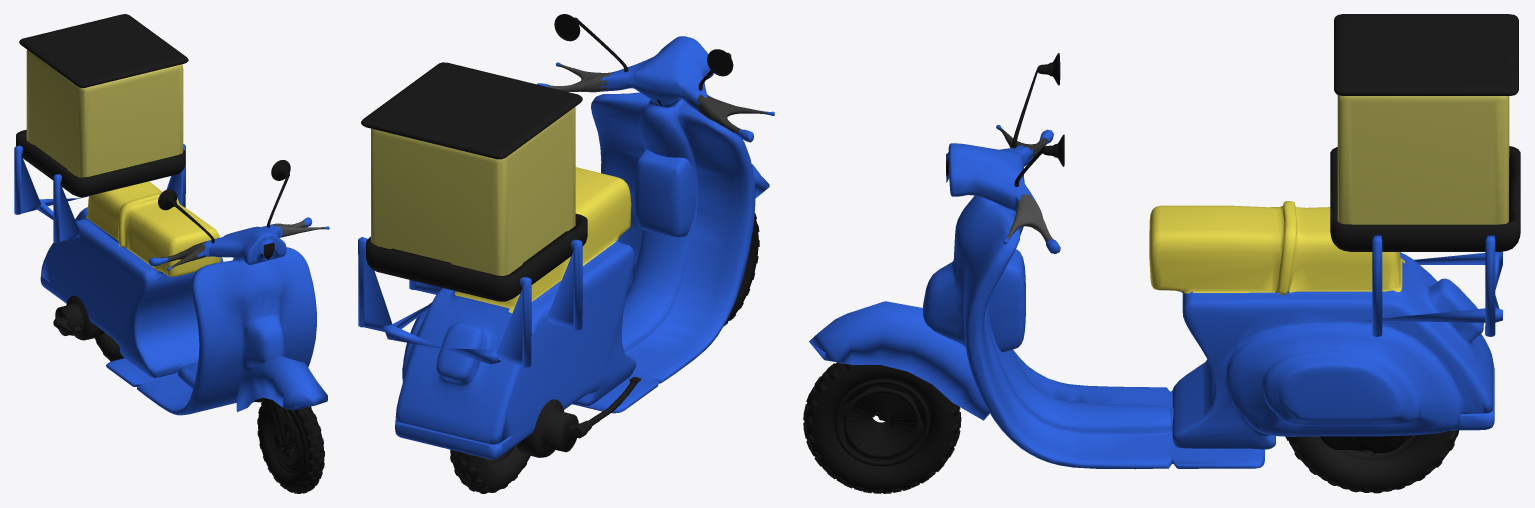
File: motor5.fbx
3 views of the same model, side by side, from view 1: azimuth 30°, elevation 25°; view 2: azimuth 150°, elevation 25°; view 3: azimuth 270°, elevation 25° (orthographic). The views are drawn at different scales.
Parts seen in each view (by area): view 1: box.002, Wheel.Ft.005, Wheel.Bk.001; view 2: box.002, Wheel.Ft.005, Wheel.Bk.001; view 3: box.002, Wheel.Ft.005, Wheel.Bk.001.
Boxes of the visible parts, box(x1,y1,x2,y2) form: box.002: box(14, 14, 327, 449); Wheel.Ft.005: box(148, 160, 329, 493); Wheel.Bk.001: box(95, 332, 123, 361); box.002: box(358, 62, 769, 459); Wheel.Ft.005: box(537, 14, 774, 326); Wheel.Bk.001: box(450, 445, 530, 493); box.002: box(809, 14, 1520, 469); Wheel.Ft.005: box(803, 53, 1064, 493); Wheel.Bk.001: box(1285, 430, 1459, 493).
Bounding box in the file's own units: 117 × 207 × 304.
